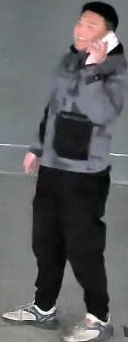phone: (74, 19, 127, 128)
